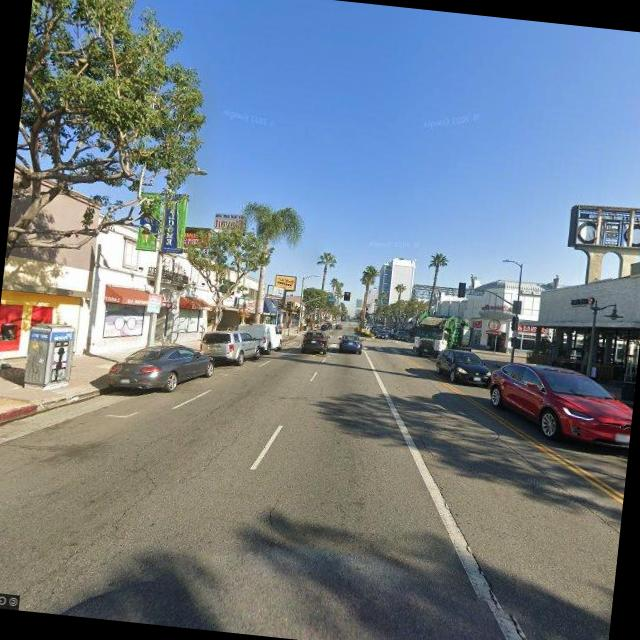pothole: (40, 447, 166, 596)
